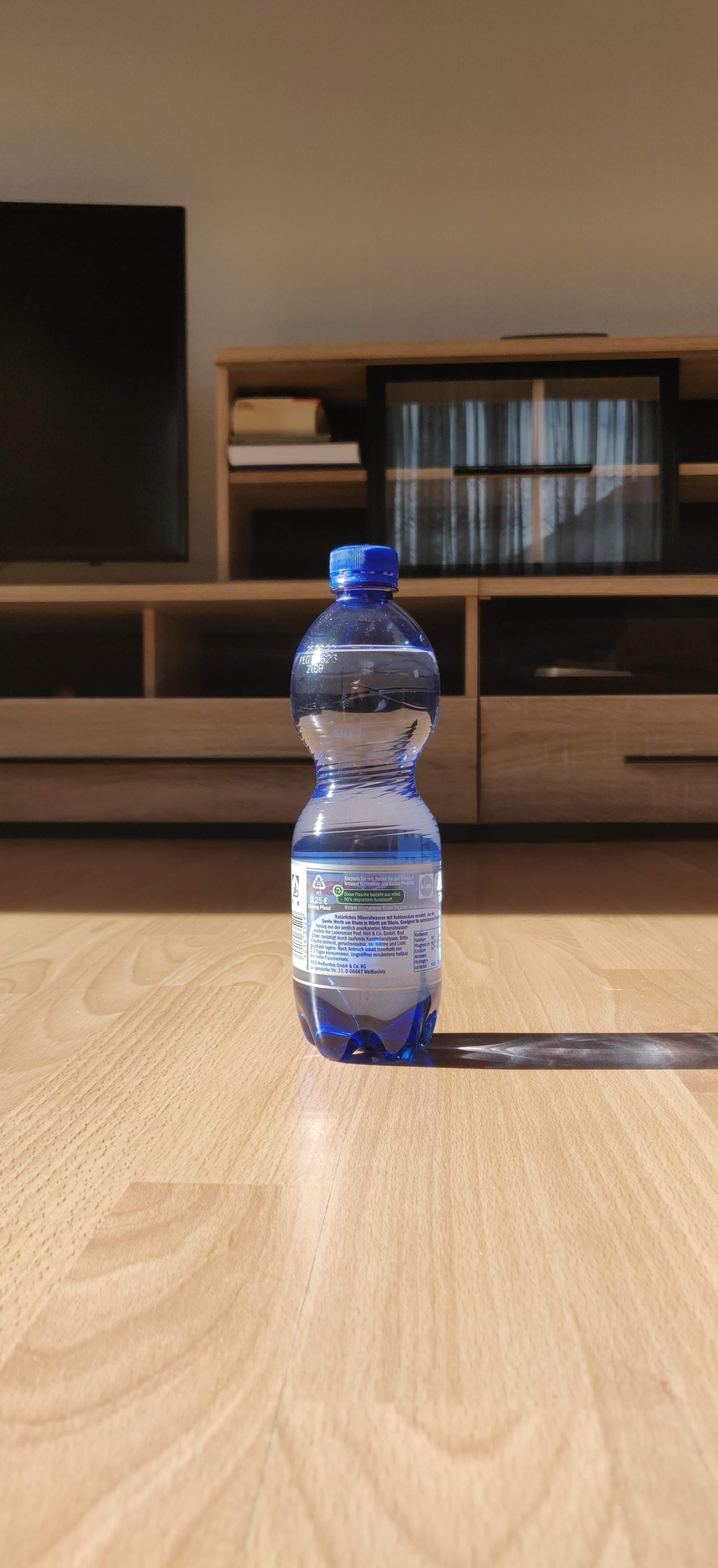bottle-plastic: (282, 537, 448, 1063)
